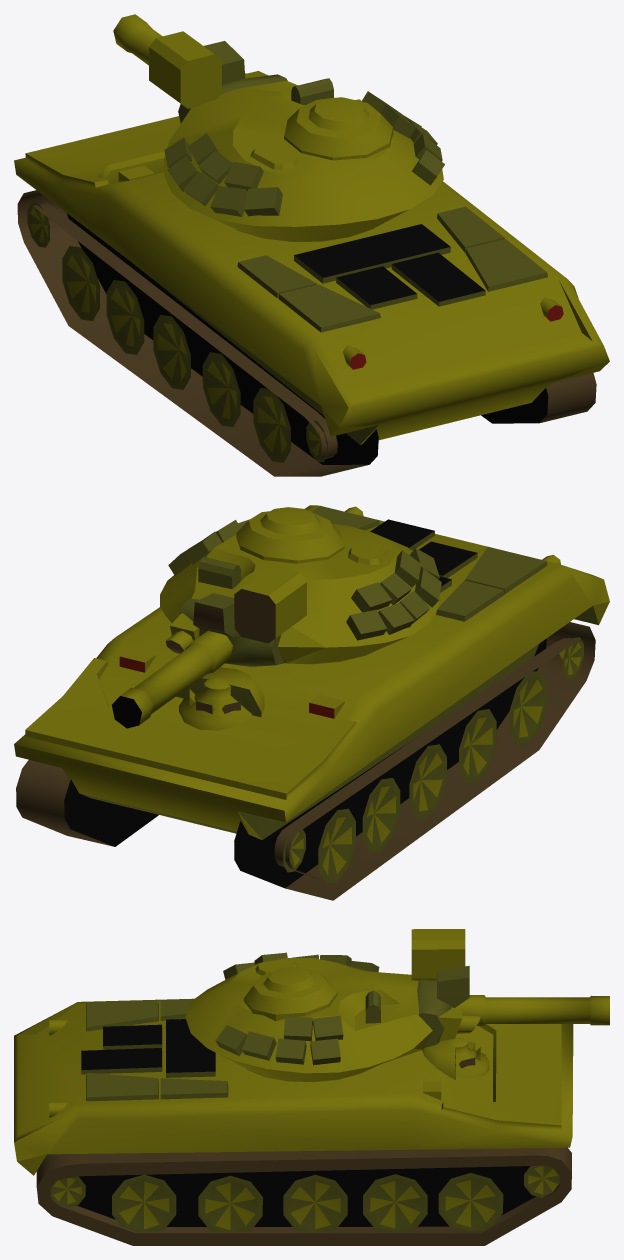
3 renders of one model, top to bottom at view 1: azimuth 30°, elevation 25°; view 2: azimuth 150°, elevation 25°; view 3: azimuth 270°, elevation 25°, orthographic. The views are drawn at different scales.
Visible parts, largest first — view 1: hull.002, m551_turret.001, barrel; view 2: hull.002, m551_turret.001, barrel; view 3: hull.002, m551_turret.001, barrel.
Boxes of the visible parts, <box> form: hull.002: <box>14,116,609,476</box>; m551_turret.001: <box>149,31,444,241</box>; barrel: <box>113,14,287,123</box>; hull.002: <box>14,505,609,900</box>; m551_turret.001: <box>160,507,441,664</box>; barrel: <box>111,593,284,728</box>; hull.002: <box>14,998,573,1245</box>; m551_turret.001: <box>185,929,465,1082</box>; barrel: <box>417,965,609,1047</box>.
Bounding box in the file's own units: 0.4507 × 0.4403 × 1.
